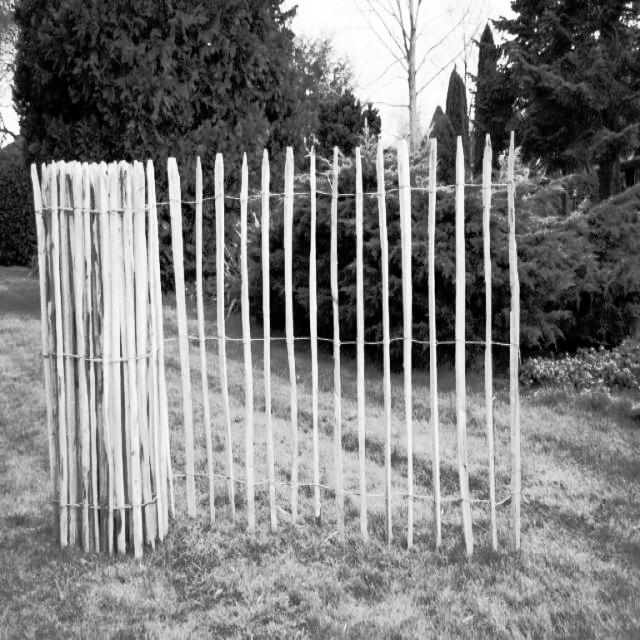fences: (170, 163, 529, 541)
